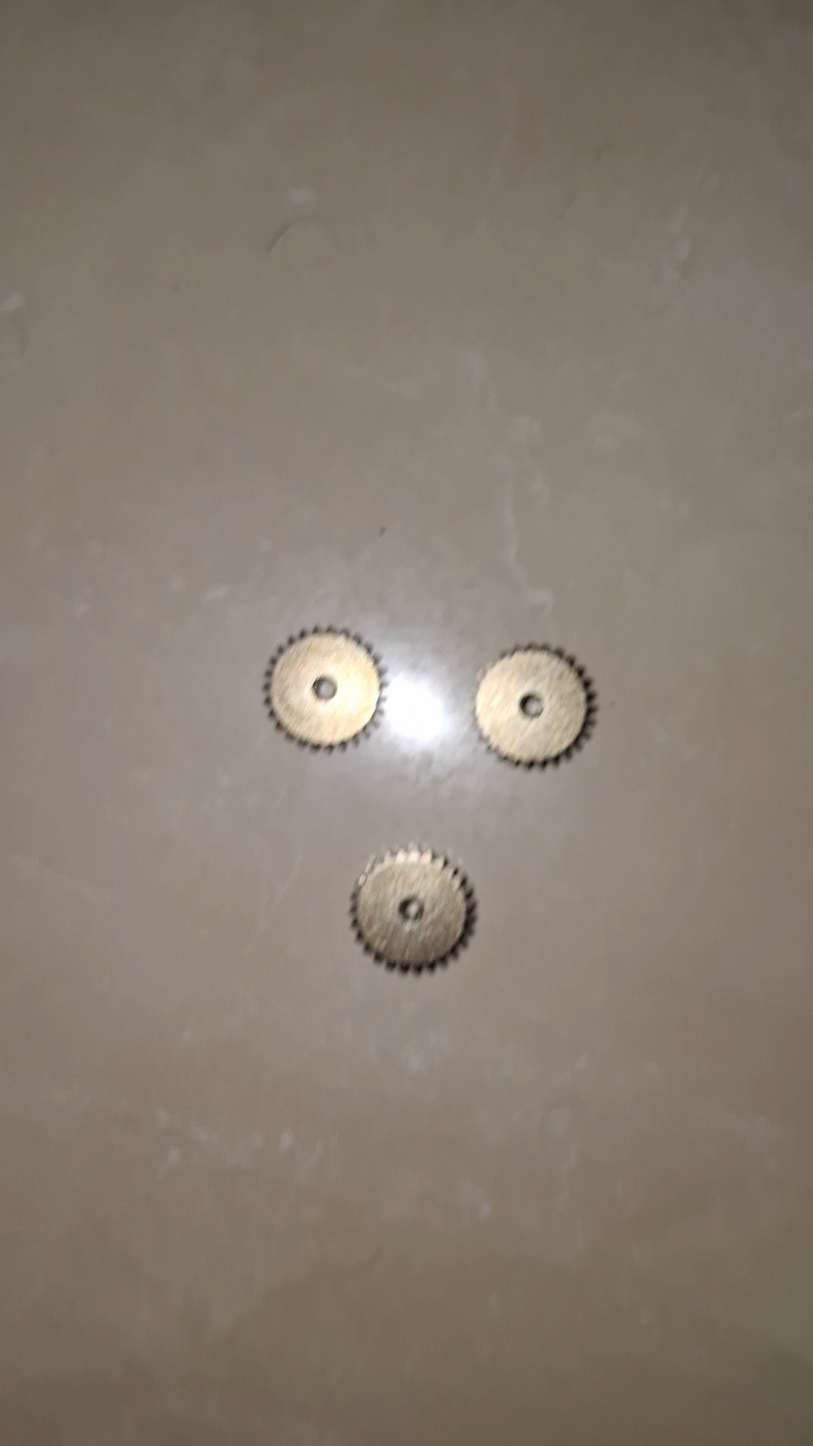spur gear: (350, 846, 475, 972), (475, 645, 597, 767), (264, 629, 383, 749)
